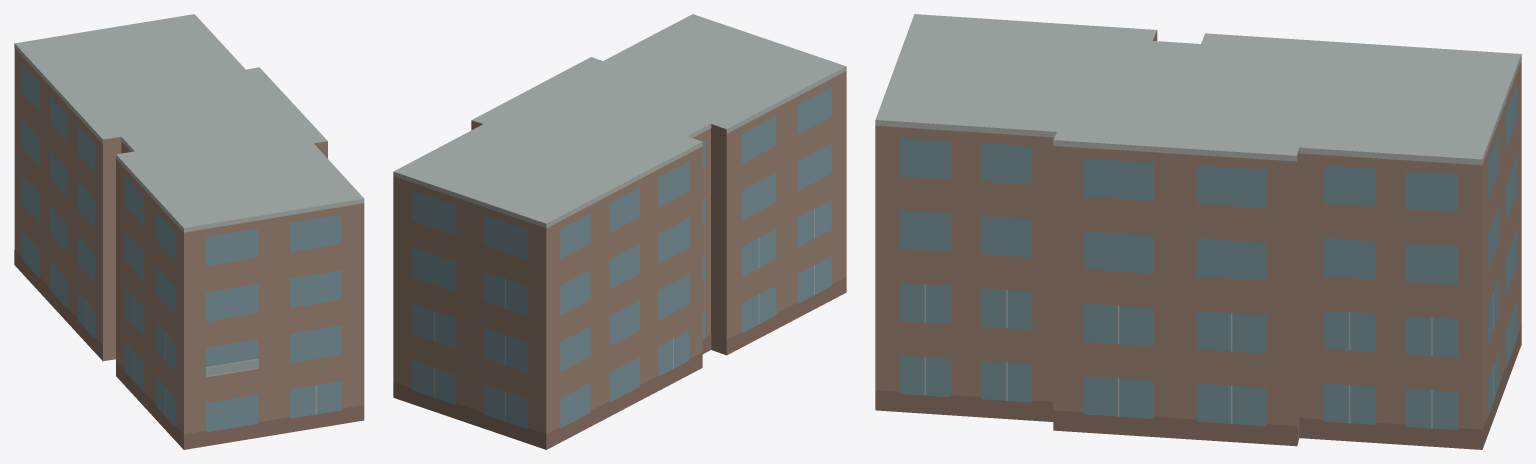
The model's file is survey-upis-32675964.glb.
The picture shows the model from 3 angles, left to right: view 1: azimuth 30°, elevation 25°; view 2: azimuth 150°, elevation 25°; view 3: azimuth 270°, elevation 25°; orthographic projection. The views are drawn at different scales.
Visible parts, largest first — view 1: survey-upis-32675964.tmp; view 2: survey-upis-32675964.tmp; view 3: survey-upis-32675964.tmp.
Part boxes in pixels (bbox=[...]): survey-upis-32675964.tmp: bbox=[14, 14, 364, 449]; survey-upis-32675964.tmp: bbox=[393, 14, 846, 449]; survey-upis-32675964.tmp: bbox=[875, 14, 1521, 449].
Size of the model in its own units: 13.12 by 12.2 by 24.61.
